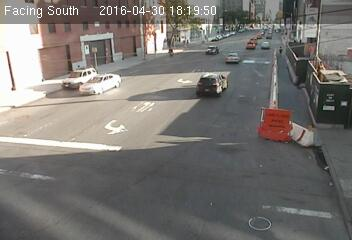neg: (190, 64, 220, 104), (166, 46, 177, 60)
pos: (276, 43, 284, 54)
